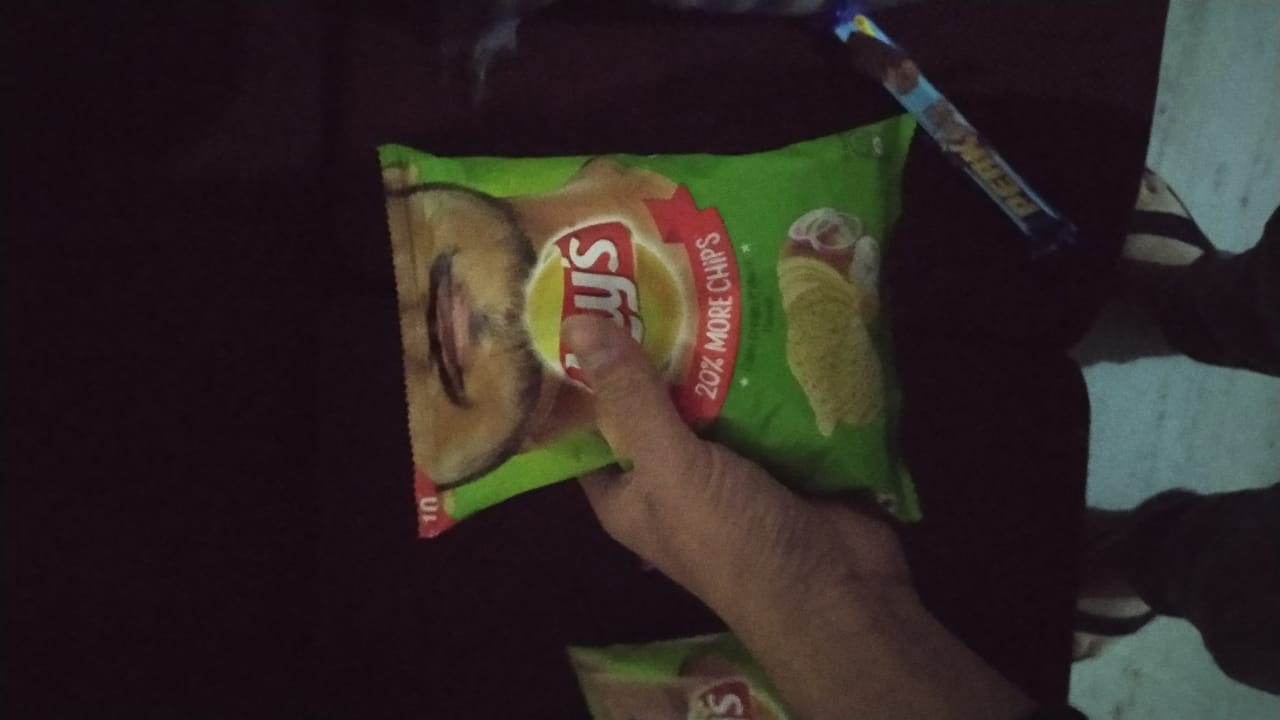lays chips: (353, 114, 934, 531)
perk: (838, 3, 1082, 257)
